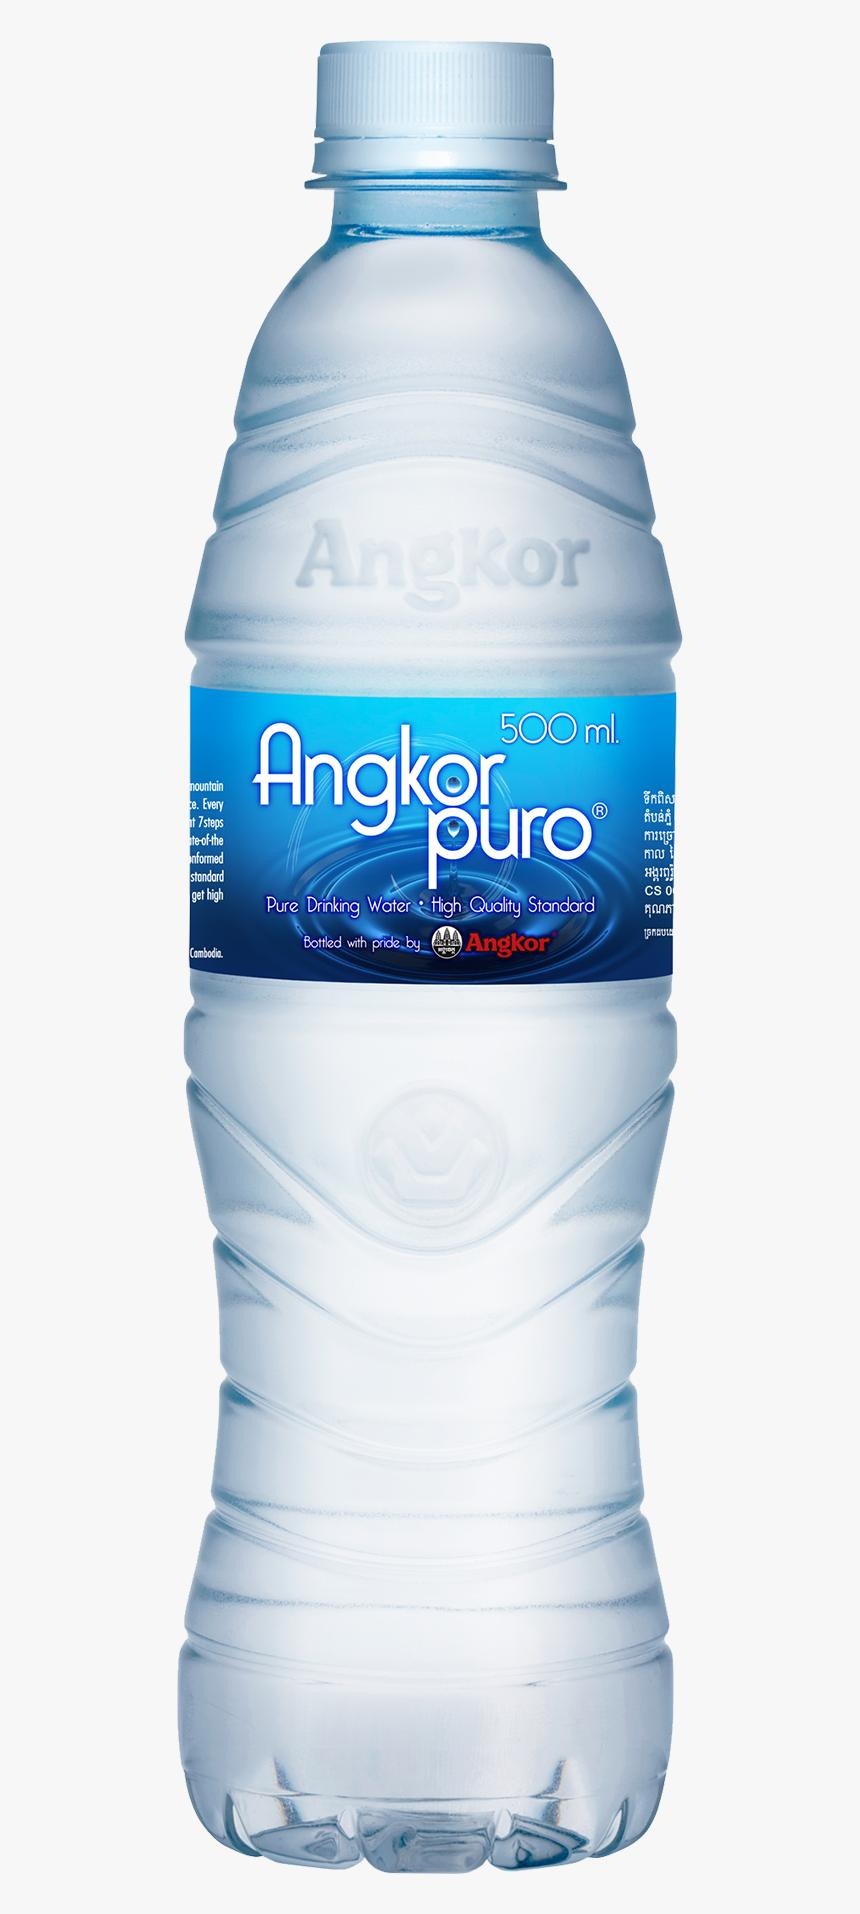bottle: (0, 0, 340, 1100)
